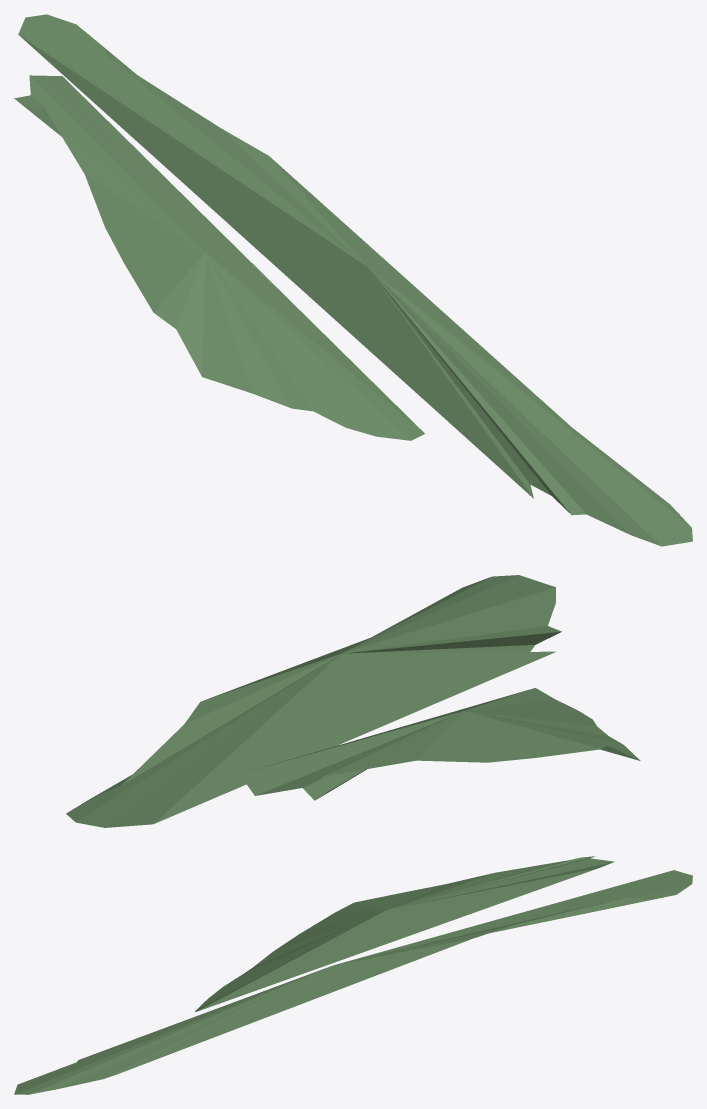
Rendered from c_1672_17821_forest.glb.
3 views of the same model, one above another, from view 1: azimuth 30°, elevation 25°; view 2: azimuth 150°, elevation 25°; view 3: azimuth 270°, elevation 25° (orthographic). The views are drawn at different scales.
Parts seen in each view (by area): view 1: geometry_0; view 2: geometry_0; view 3: geometry_0.
Part boxes in pixels (bbox=[...]): geometry_0: bbox=[14, 14, 692, 546]; geometry_0: bbox=[66, 575, 640, 827]; geometry_0: bbox=[14, 856, 692, 1094].
Bounding box in the file's own units: 215 × 146 × 582.
